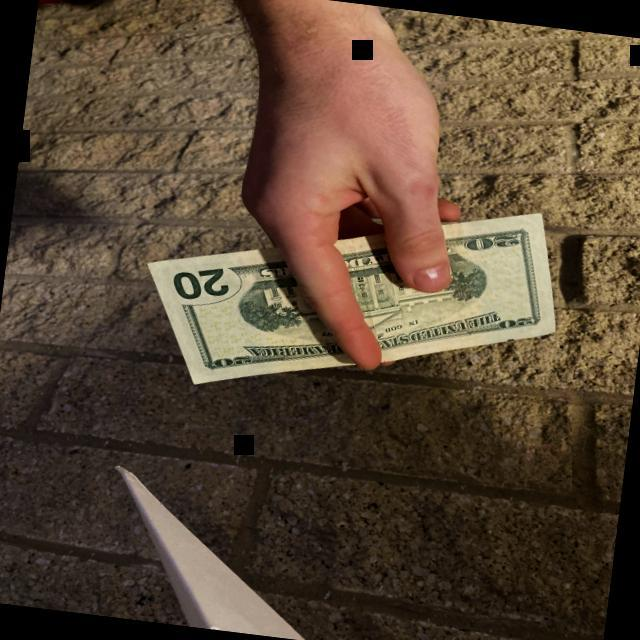twenty: (144, 210, 555, 384)
